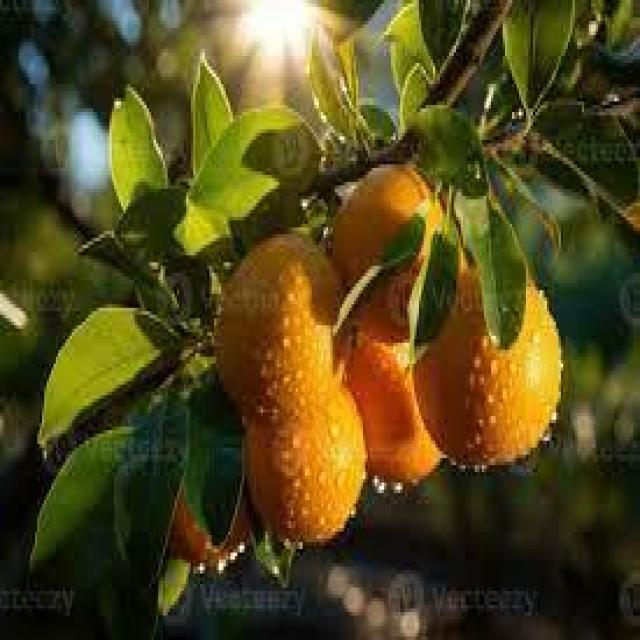fruit: (420, 256, 562, 467), (242, 371, 372, 561), (218, 235, 340, 411), (331, 164, 445, 338), (343, 324, 445, 484), (166, 478, 248, 570)
